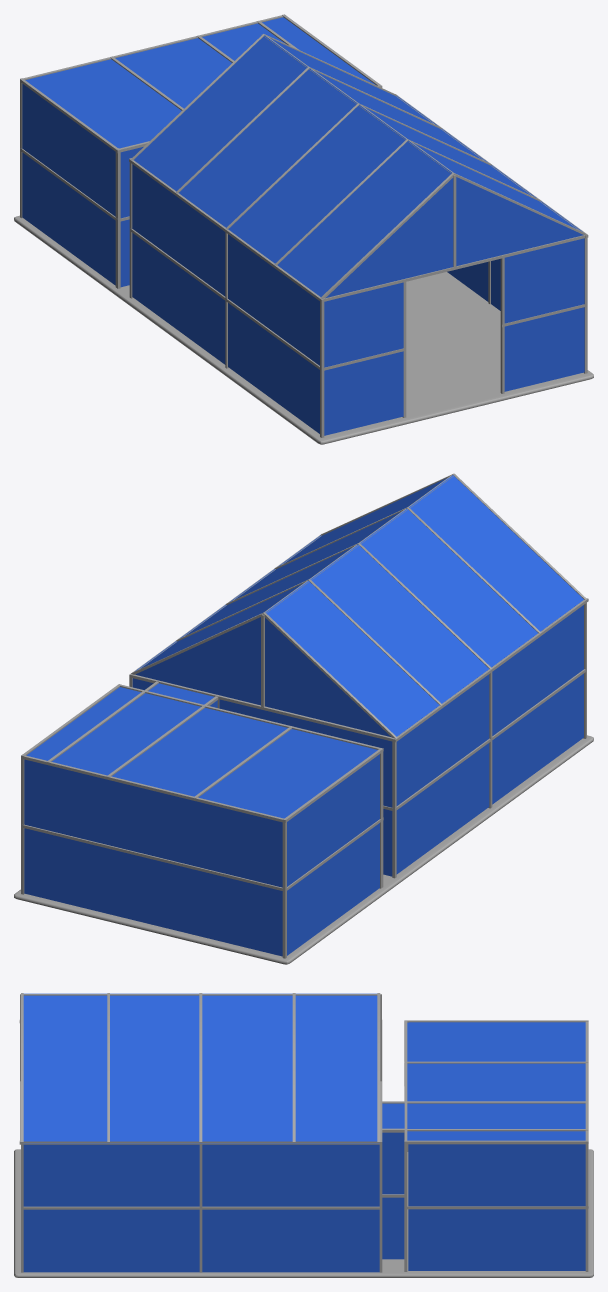
File: Estufa.fbx
3 views of the same model, one above another, from view 1: azimuth 30°, elevation 25°; view 2: azimuth 150°, elevation 25°; view 3: azimuth 270°, elevation 25° (orthographic). The views are drawn at different scales.
Parts seen in each view (by area): view 1: pasted__pasted__pCube4 (×3), pasted__pCube4 (×2), pasted__pasted__pasted__pCube4 (×2), pasted__pasted__pasted__pasted__pCube4 (×2), pCube2, pasted__pasted__pasted__pasted__pasted__pCube4, pasted__pasted__pasted__pasted__pasted__pasted__pasted__pCub (×2), pasted__pasted__pasted__pasted__pasted__pCube1 (×2), pasted__pasted__pCube1 (×2), pCube4, pasted__pasted__pasted__pasted__pasted__pasted__pCube1 (×2), pasted__pasted__pasted__pasted__pasted__pasted__pasted__past (×2) (+2 smaller); view 2: pasted__pasted__pasted__pCube4 (×2), pasted__pasted__pCube4, pasted__pCube4 (×3), pasted__pasted__pasted__pasted__pCube4, pasted__pasted__pasted__pasted__pasted__pasted__pCube4, pasted__pasted__pasted__pasted__pasted__pCube4, pCube2, pasted__pasted__pasted__pasted__pasted__pCube1 (×4), pasted__pasted__pasted__pasted__pasted__pasted__pCube1 (×2), pasted__pasted__pasted__pasted__pasted__pasted__pasted__pCub (×2), pasted__pasted__pasted__pasted__pasted__pasted__pasted__past, pasted__pasted__pasted__pasted__pCube1 (+3 smaller); view 3: pasted__pCube4, pasted__pasted__pasted__pasted__pCube4 (×4), pCube4, pCube2, pasted__pasted__pasted__pCube1 (×4), pasted__pasted__pasted__pasted__pasted__pasted__pasted__past (×5), pasted__pasted__pasted__pasted__pasted__pasted__pasted__pCub (×3), pasted__pasted__pCube1 (×2), pasted__pasted__pasted__pasted__pasted__pasted__pCube1 (×3), pasted__pasted__pasted__pasted__pasted__pCube1 (×2), pasted__pasted__pasted__pasted__pCube1, pasted__pCube1.
Part boxes in pixels (x1=…): pasted__pasted__pCube4 (×3): x1=120, y1=35, x2=451, y2=435; pasted__pCube4 (×2): x1=132, y1=38, x2=577, y2=433; pasted__pasted__pasted__pCube4 (×2): x1=22, y1=84, x2=584, y2=391; pasted__pasted__pasted__pasted__pCube4 (×2): x1=25, y1=17, x2=583, y2=266; pCube2: x1=14, y1=215, x2=593, y2=444; pasted__pasted__pasted__pasted__pasted__pCube4: x1=325, y1=178, x2=453, y2=298; pasted__pasted__pasted__pasted__pasted__pasted__pasted__pCub (×2): x1=176, y1=66, x2=586, y2=298; pasted__pasted__pasted__pasted__pasted__pCube1 (×2): x1=225, y1=103, x2=587, y2=301; pasted__pasted__pCube1 (×2): x1=129, y1=158, x2=504, y2=393; pCube4: x1=397, y1=96, x2=582, y2=310; pasted__pasted__pasted__pasted__pasted__pasted__pCube1 (×2): x1=23, y1=15, x2=540, y2=265; pasted__pasted__pasted__pasted__pasted__pasted__pasted__past (×2): x1=20, y1=34, x2=397, y2=160; pasted__pasted__pasted__pCube4 (×2): x1=24, y1=754, x2=379, y2=956; pasted__pasted__pCube4: x1=265, y1=475, x2=583, y2=736; pasted__pCube4 (×3): x1=140, y1=478, x2=583, y2=876; pasted__pasted__pasted__pasted__pCube4: x1=26, y1=687, x2=377, y2=818; pasted__pasted__pasted__pasted__pasted__pasted__pCube4: x1=265, y1=618, x2=391, y2=737; pasted__pasted__pasted__pasted__pasted__pCube4: x1=135, y1=617, x2=260, y2=705; pCube2: x1=14, y1=735, x2=593, y2=964; pasted__pasted__pasted__pasted__pasted__pCube1 (×4): x1=22, y1=542, x2=491, y2=958; pasted__pasted__pasted__pasted__pasted__pasted__pCube1 (×2): x1=22, y1=507, x2=540, y2=822; pasted__pasted__pasted__pasted__pasted__pasted__pasted__pCub (×2): x1=176, y1=473, x2=586, y2=705; pasted__pasted__pasted__pasted__pasted__pasted__pasted__past: x1=131, y1=612, x2=397, y2=738; pasted__pasted__pasted__pasted__pCube1: x1=129, y1=674, x2=395, y2=741; pasted__pCube4: x1=23, y1=995, x2=379, y2=1143; pasted__pasted__pasted__pasted__pCube4 (×4): x1=382, y1=1022, x2=585, y2=1270; pCube4: x1=23, y1=1141, x2=379, y2=1272; pCube2: x1=14, y1=1149, x2=593, y2=1277; pasted__pasted__pasted__pCube1 (×4): x1=19, y1=994, x2=407, y2=1272; pasted__pasted__pasted__pasted__pasted__pasted__pasted__past (×5): x1=377, y1=993, x2=588, y2=1141; pasted__pasted__pasted__pasted__pasted__pasted__pasted__pCub (×3): x1=21, y1=993, x2=585, y2=1144; pasted__pasted__pCube1 (×2): x1=23, y1=1144, x2=380, y2=1272; pasted__pasted__pasted__pasted__pasted__pasted__pCube1 (×3): x1=107, y1=993, x2=588, y2=1209; pasted__pasted__pasted__pasted__pasted__pCube1 (×2): x1=199, y1=993, x2=407, y2=1141; pasted__pasted__pasted__pasted__pCube1: x1=585, y1=1140, x2=588, y2=1271; pasted__pCube1: x1=21, y1=1142, x2=23, y2=1272.
Bounding box in the file's own units: 16.88 × 13.85 × 32.7.
